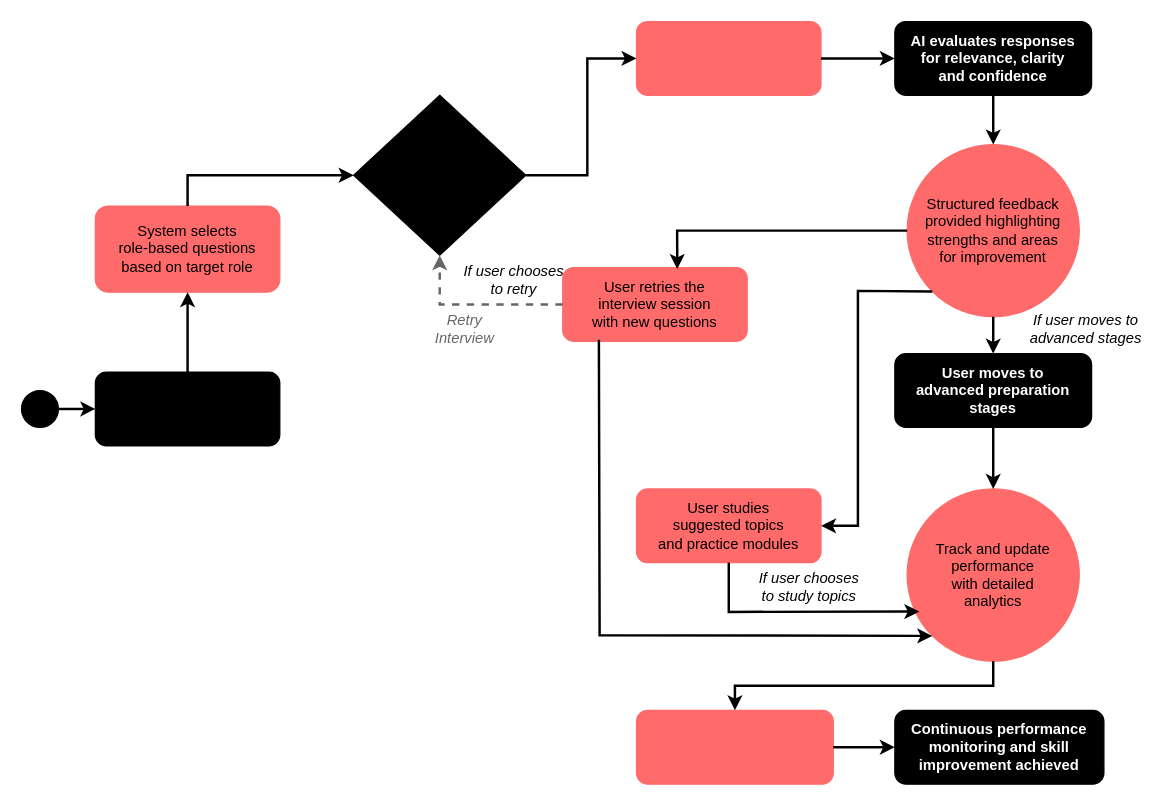
Some shapes in this 1162 by 806 pixel diagram are drawn without their labels. Each missing label, with the centre of its shape:
Consider user starts AI Interview Simulation: (x=187, y=408)
Database updates and progress tracking: (x=734, y=746)
Real-time facial analysis during interview: (x=728, y=57)
User answers questions with video/audio recording: (x=439, y=174)
